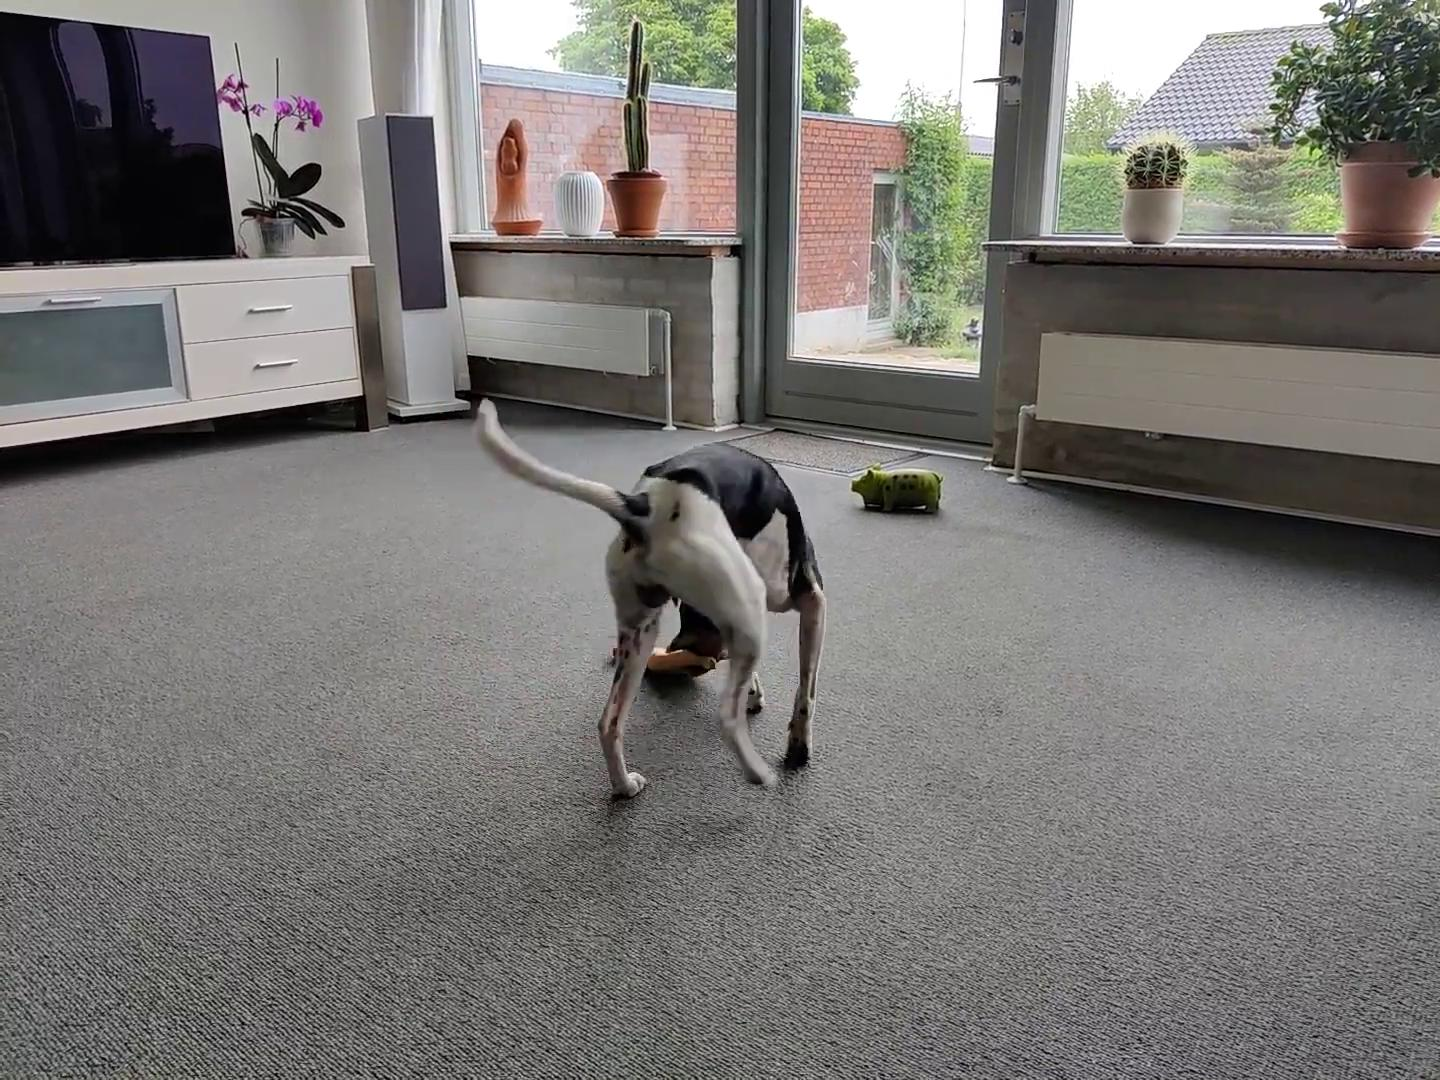Dog: (459, 386, 832, 802)
